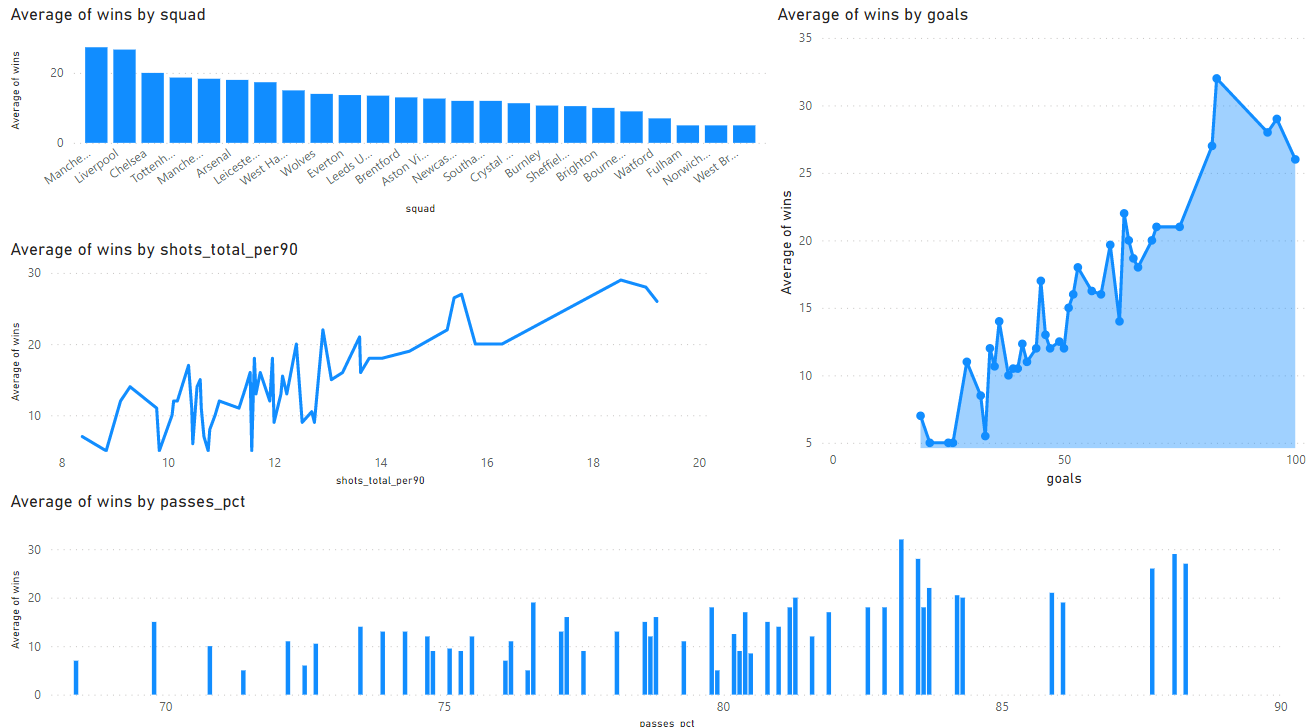

What the dashboard file says about the page in this screenshot:
{"tool":"powerbi","page":{"name":"Page 1","canvas":[1280,720],"ordinal":0},"visuals":[{"type":"columnChart","fields":{"Y":["Avg(Sheet1.wins)"],"Category":["Sheet1.squad"]},"box":[9.7,8.8,746,209.1],"z":0},{"type":"stackedAreaChart","fields":{"Category":["Sheet1.goals"],"Y":["Avg(Sheet1.wins)"]},"box":[755.7,8.8,524.3,473.7],"z":1000},{"type":"lineStackedColumnComboChart","fields":{"Category":["Sheet1.passes_pct"],"Y":["Avg(Sheet1.wins)"]},"box":[9.7,482.4,1252.8,237.3],"z":2000},{"type":"lineChart","fields":{"Category":["Sheet1.shots_total_per90"],"Y":["Avg(Sheet1.wins)"]},"box":[9.7,237.3,689.6,245.1],"z":3000}]}

Visuals, with their boxes in screenshot pixels (x1, y1, x2, y2), scaled from the page's 1280x720 canvas onto the 1310x727 screenshot:
columnChart - Avg(Sheet1.wins) x Sheet1.squad: <bbox>10, 9, 773, 220</bbox>
stackedAreaChart - Sheet1.goals x Avg(Sheet1.wins): <bbox>773, 9, 1309, 487</bbox>
lineStackedColumnComboChart - Sheet1.passes_pct x Avg(Sheet1.wins): <bbox>10, 487, 1292, 726</bbox>
lineChart - Sheet1.shots_total_per90 x Avg(Sheet1.wins): <bbox>10, 240, 716, 487</bbox>
